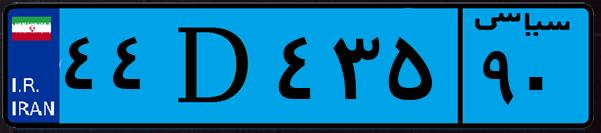0: (525, 38, 570, 115)
3: (330, 28, 385, 110)
4: (270, 28, 330, 110), (57, 26, 110, 100), (110, 28, 158, 98)
5: (385, 28, 445, 110)
9: (475, 38, 525, 113)
D: (158, 12, 270, 120)
